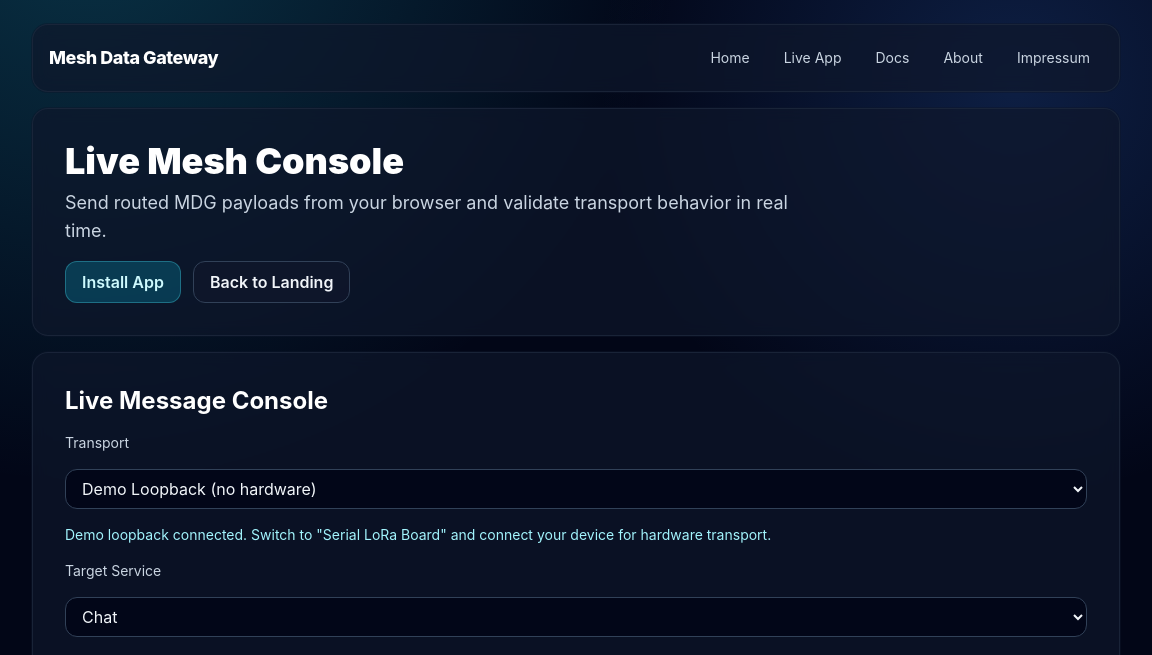
Scenario: App › connects and disconnects serial board when web serial is available
Select "Serial LoRa Board" in the dropdown labelled "Transport". click: (576, 489)
box: [65,469,1087,509]
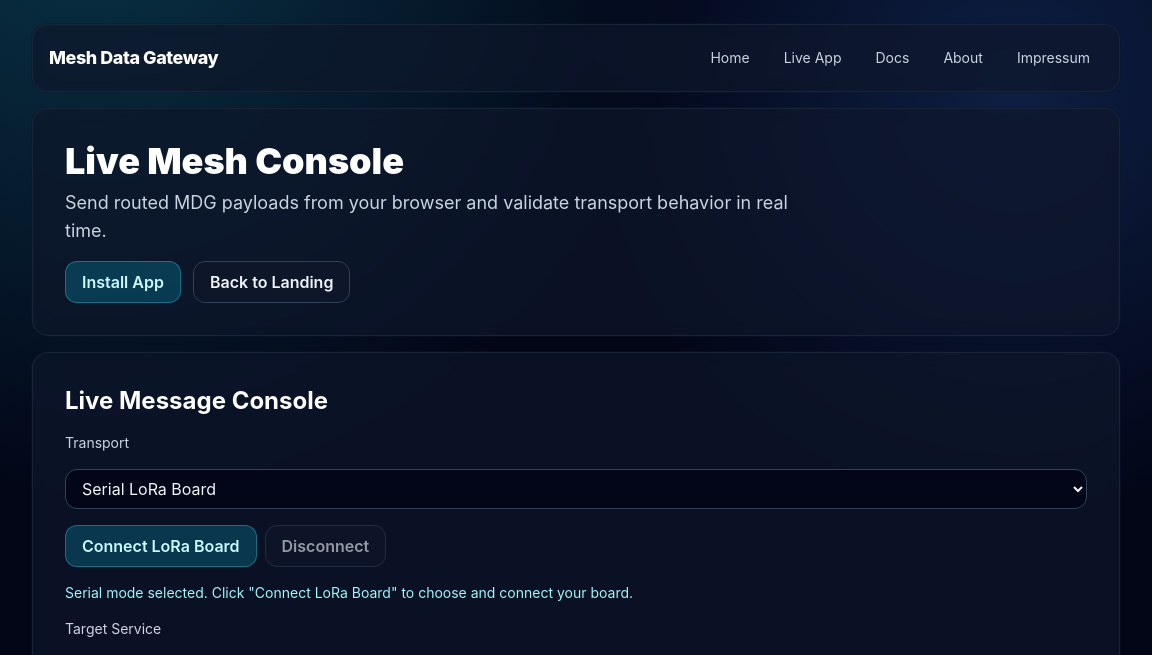
expect the text "Serial mode selected. Click \"Connect LoRa Board\"" is shown: met, box [65,584,633,601]
Click the button "Connect LoRa Board". click: (161, 546)
box: [65,525,257,567]
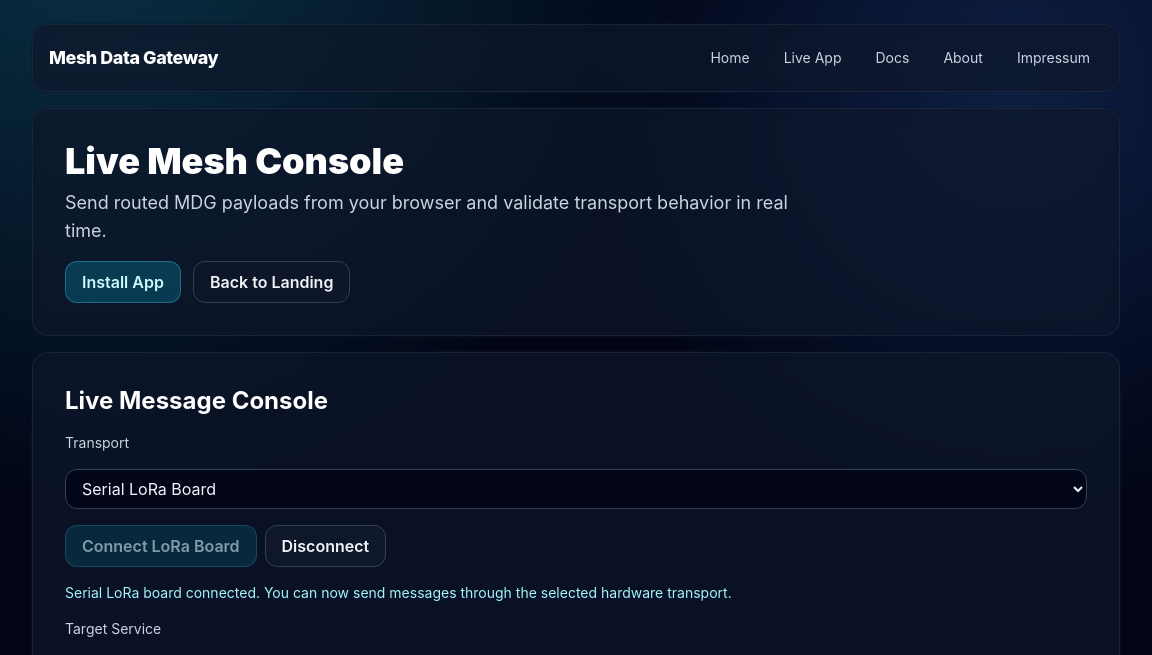
expect the text "Serial LoRa board connected. You can now send messages" is shown: met, box [65,584,732,601]
Click the button "Disconnect". click: (325, 546)
box: [265,525,386,567]
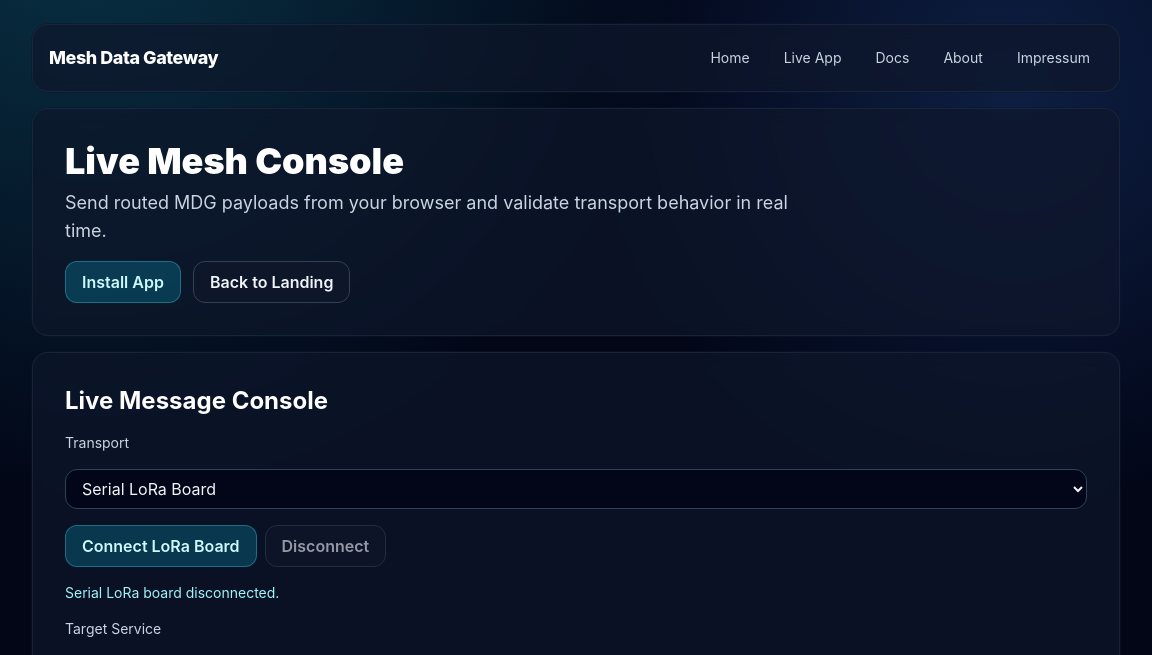
expect the text "Serial LoRa board disconnected." is shown: met, box [65,584,279,601]
